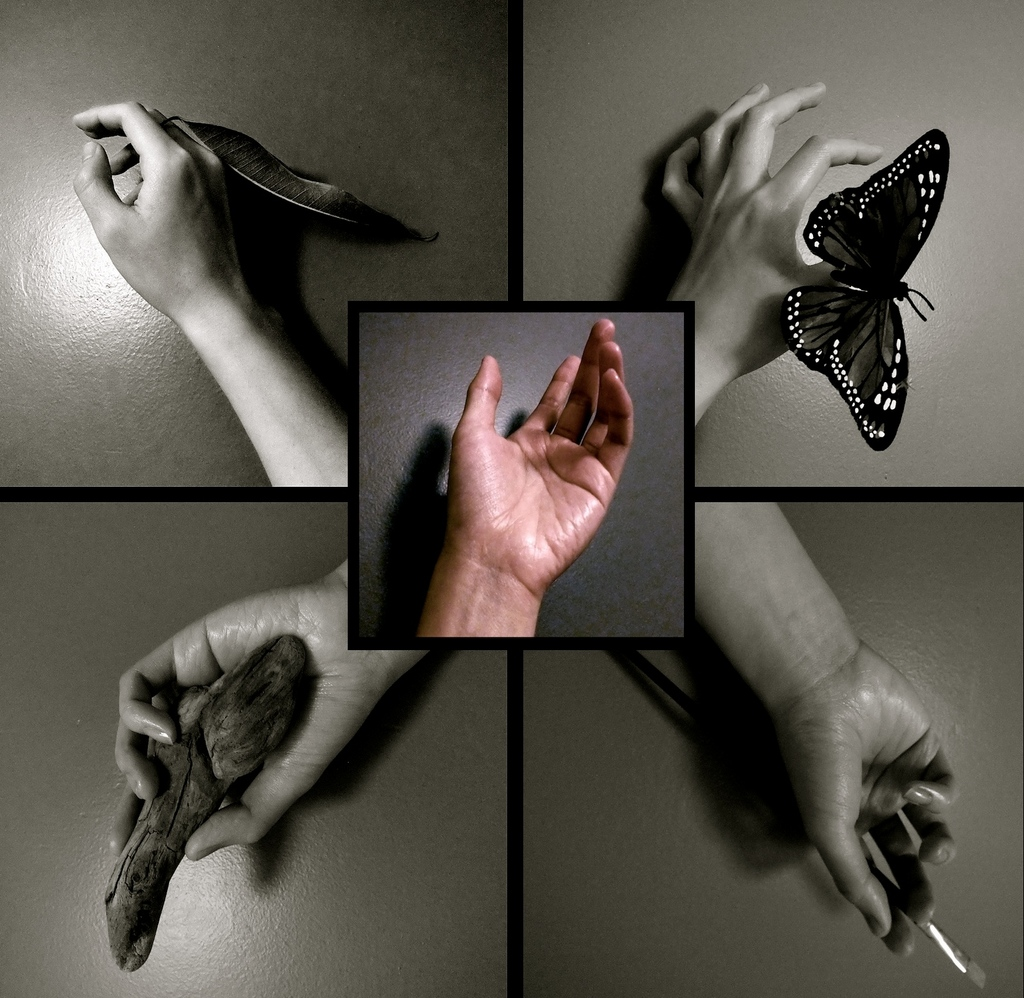Butterfly: (782, 123, 961, 454)
